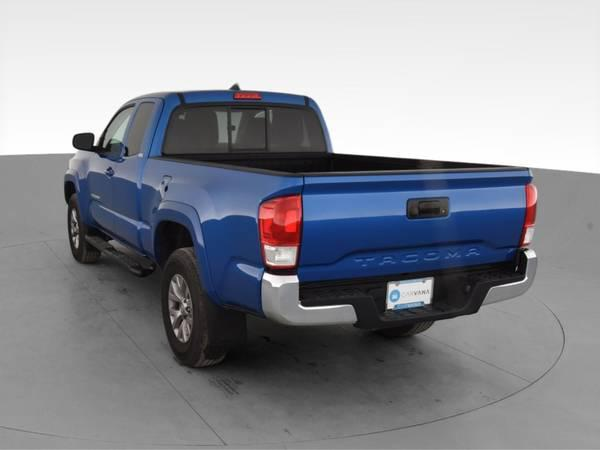Front_Fender: (61, 154, 92, 228)
Front_Left_Door: (86, 152, 115, 238)
Front_Left_Window: (92, 102, 139, 155)
Left_Taillight: (257, 192, 302, 268)
Rear_Bumper: (261, 247, 535, 323)
Rear_Fender: (139, 155, 301, 308)
Rear_Left_Door: (114, 155, 147, 253)
Rear_Left_Window: (122, 96, 166, 157)
Rear_Windshield: (151, 93, 333, 154)
Right_Taillight: (518, 183, 539, 249)
Tailgate: (297, 169, 532, 288)
Wheel: (159, 251, 248, 367), (65, 196, 100, 266)
